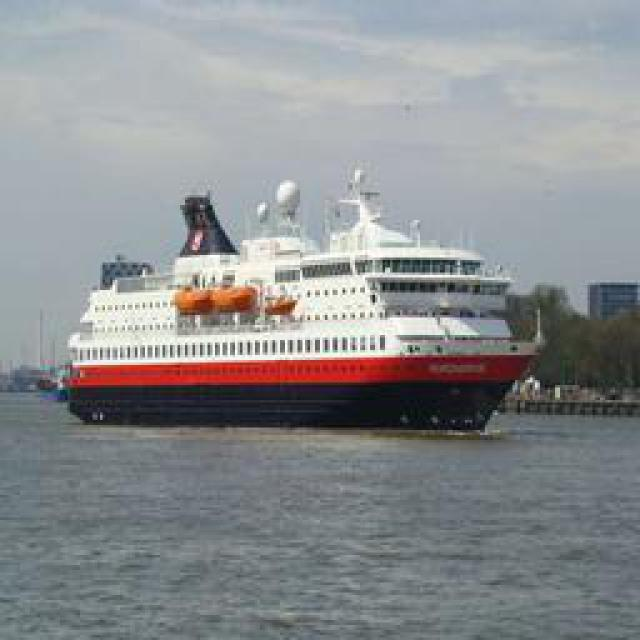Ship: (54, 157, 539, 430)
